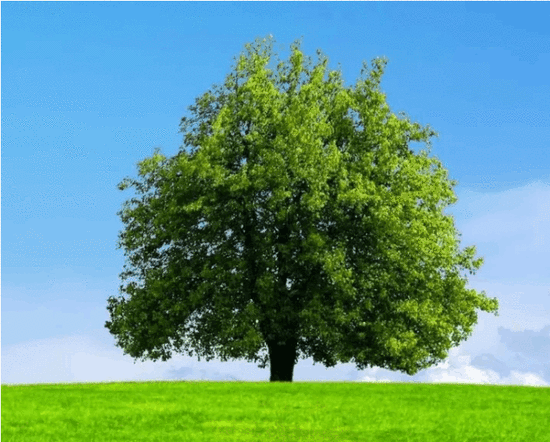tree: (104, 32, 500, 384)
